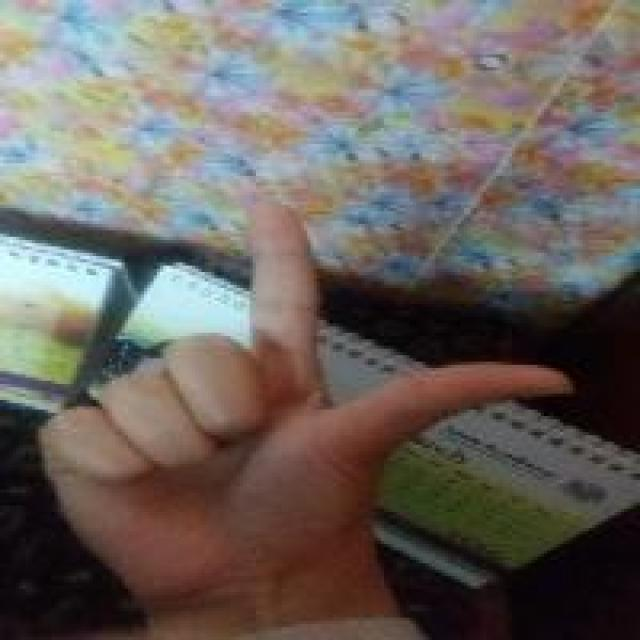L: (41, 195, 572, 592)
